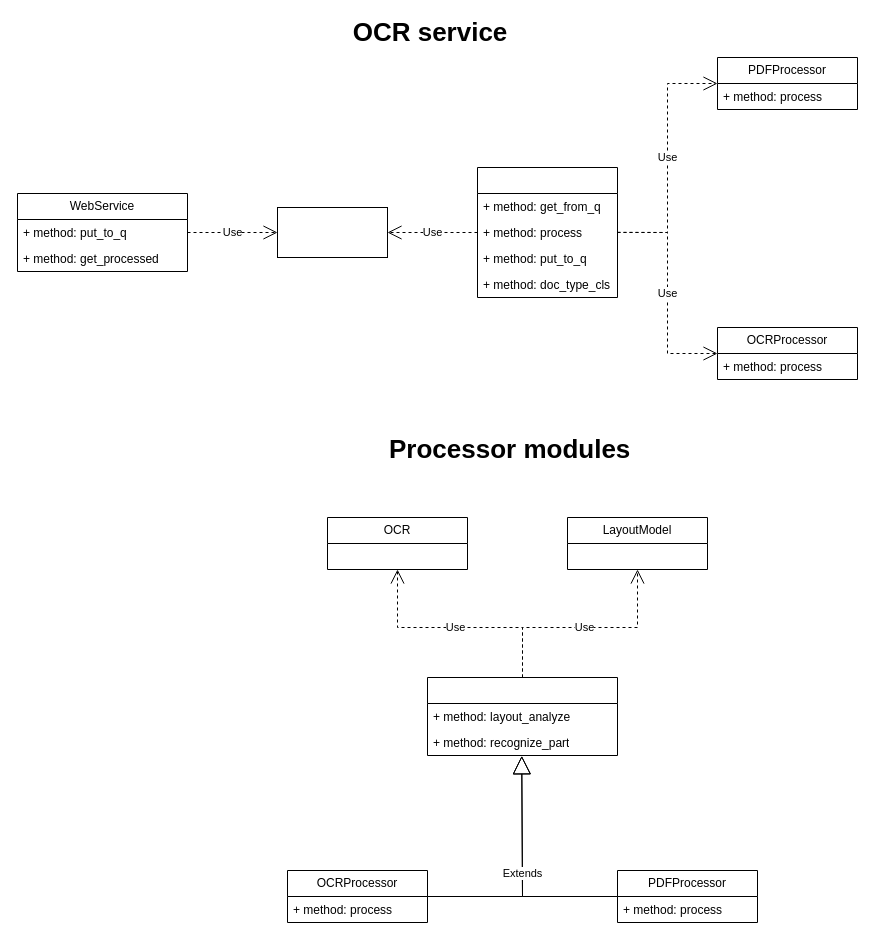
This 875x943 diagram has some shape labels left out. The box of each missing label's shape, as (x1, y1, x2, y2) in pixels:
DocumentProcessor: (426, 676, 618, 756)
RabbitMQ: (276, 206, 388, 258)
Recognizer: (476, 166, 618, 298)
